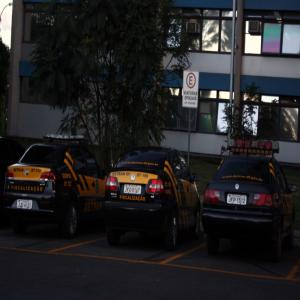Vehicle-registration-plate: (228, 194, 247, 207), (125, 183, 143, 196), (17, 200, 33, 211)
